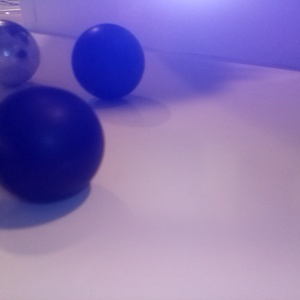alive_ball: (1, 20, 41, 87)
dead_ball: (1, 85, 104, 204), (70, 24, 144, 99)
